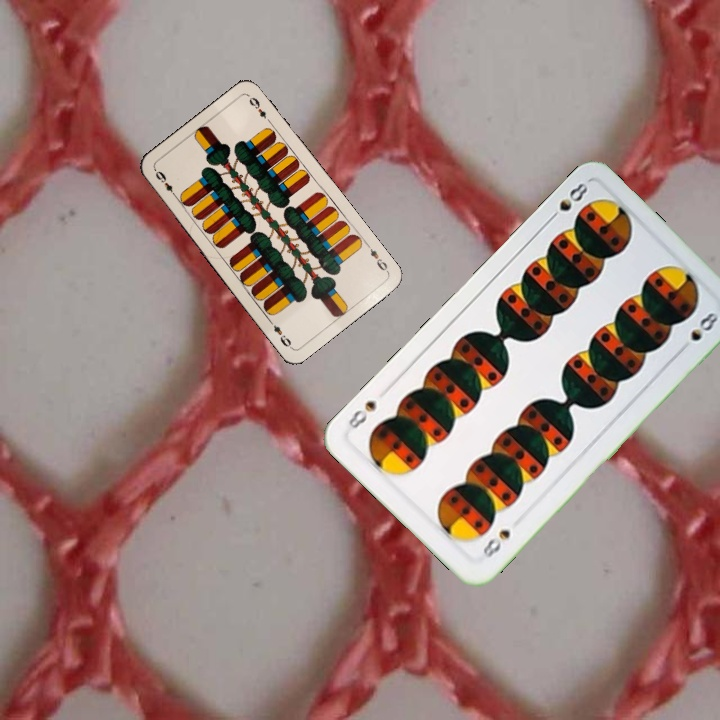E9: (362, 240, 391, 275), (151, 166, 180, 200)
S8: (543, 178, 591, 225), (478, 525, 513, 561)
